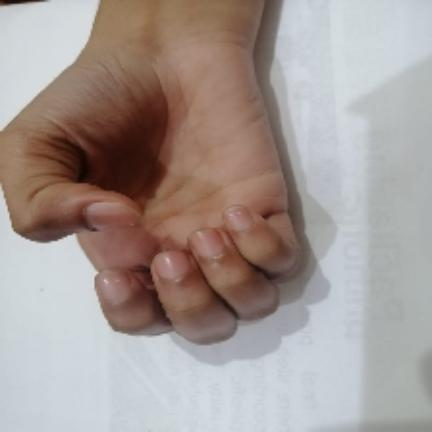Nail: (83, 201, 141, 229), (95, 269, 133, 305), (154, 251, 189, 281), (189, 229, 224, 258), (223, 205, 252, 231)
